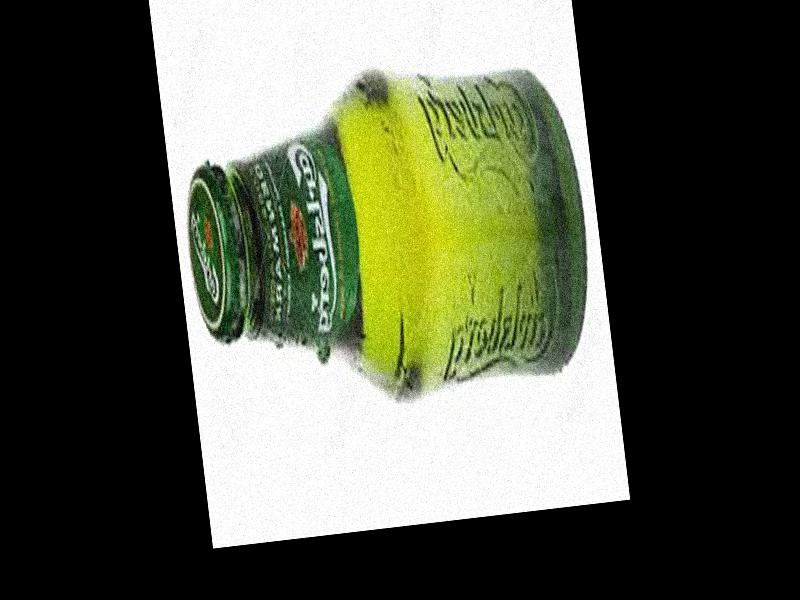Beer: (170, 45, 604, 422)
